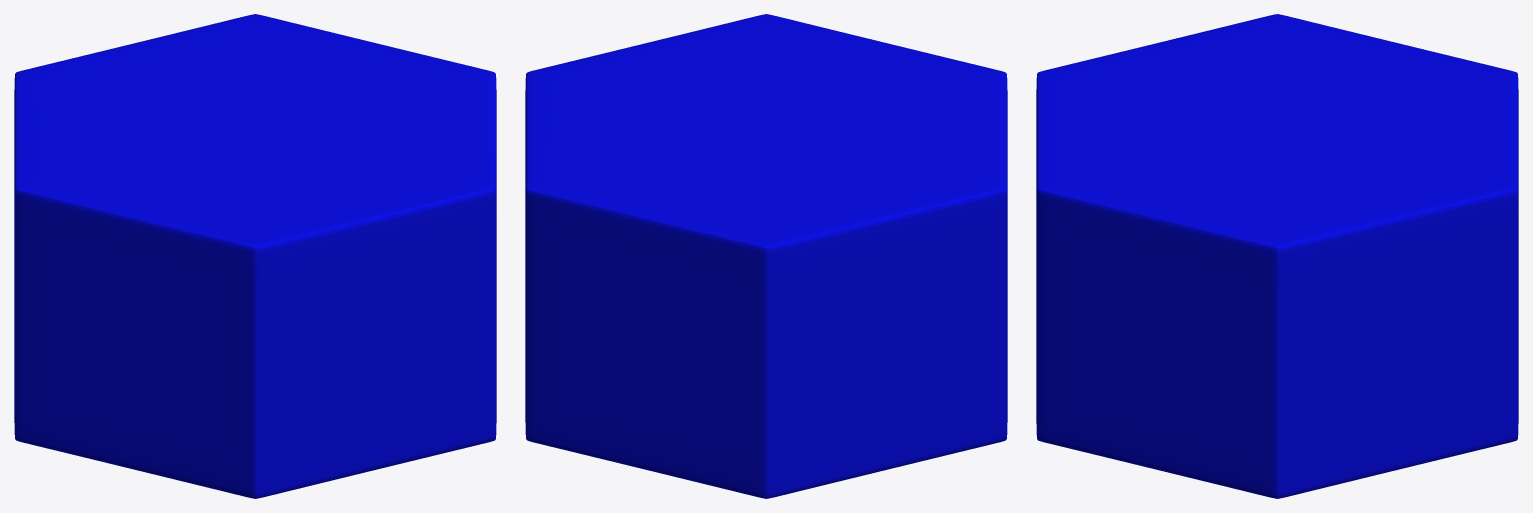
The model's file is Bluehexagon.glb.
3 views of the same model, side by side, from view 1: azimuth 30°, elevation 25°; view 2: azimuth 150°, elevation 25°; view 3: azimuth 270°, elevation 25° (orthographic).
Visible parts, largest first — view 1: 20265_Hexagonal_prism_v1; view 2: 20265_Hexagonal_prism_v1; view 3: 20265_Hexagonal_prism_v1.
Boxes of the visible parts, <box> form: 20265_Hexagonal_prism_v1: <box>14,14,496,498</box>; 20265_Hexagonal_prism_v1: <box>525,14,1007,498</box>; 20265_Hexagonal_prism_v1: <box>1036,14,1518,498</box>.
Size of the model in its own units: 7.85 by 3.95 by 6.82.
